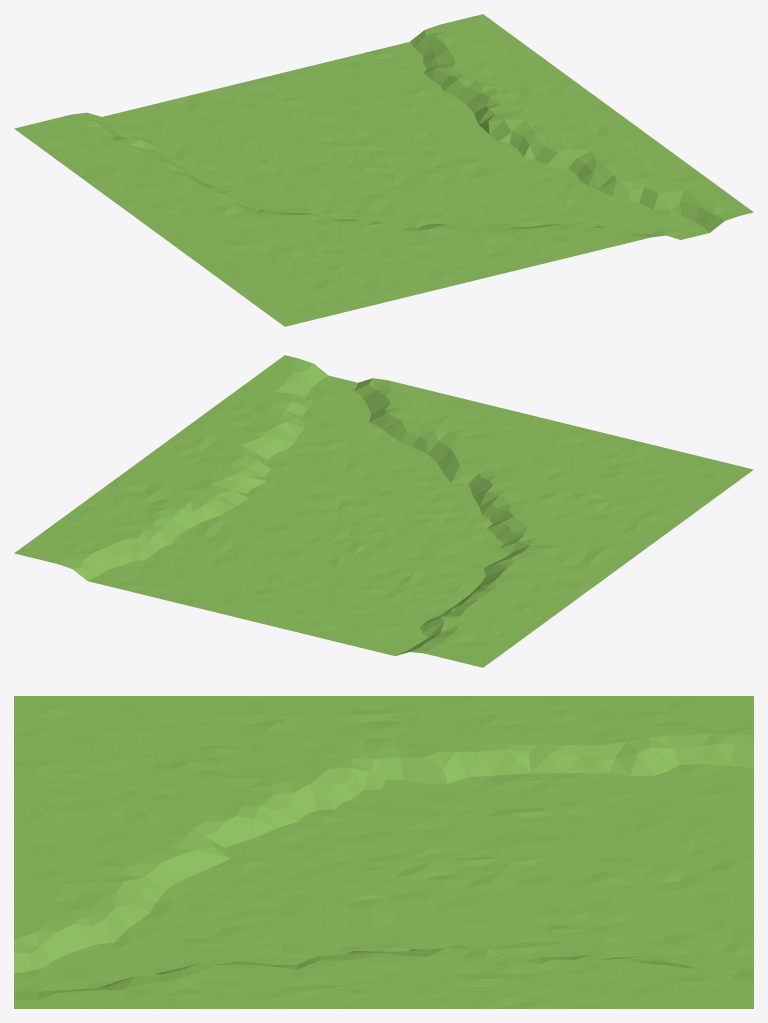
Rendered from MT_River_End_L_b_01_R_LOD.fbx.
The picture shows the model from 3 angles, top to bottom: view 1: azimuth 30°, elevation 25°; view 2: azimuth 150°, elevation 25°; view 3: azimuth 270°, elevation 25°; orthographic projection. The views are drawn at different scales.
Parts seen in each view (by area): view 1: MT_River_End_L_b_01_R_LOD0; view 2: MT_River_End_L_b_01_R_LOD0; view 3: MT_River_End_L_b_01_R_LOD0.
Part boxes in pixels (box(x1,y1,x2,y2)): MT_River_End_L_b_01_R_LOD0: box(14, 14, 753, 326); MT_River_End_L_b_01_R_LOD0: box(14, 355, 753, 667); MT_River_End_L_b_01_R_LOD0: box(14, 696, 753, 1008).
Size of what is drawn, in the model's own units: 10000 by 220 by 10000.
